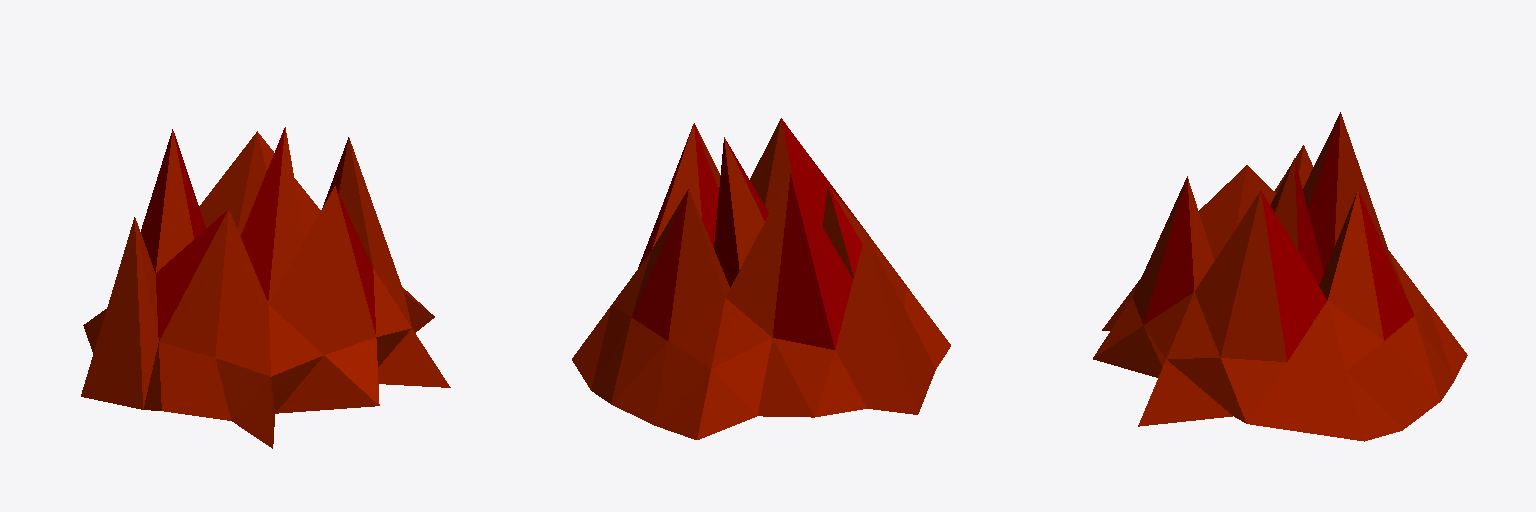
File: fire.obj
3 renders of one model, left to right at view 1: azimuth 30°, elevation 25°; view 2: azimuth 150°, elevation 25°; view 3: azimuth 270°, elevation 25°, orthographic.
Visible parts, largest first — view 1: Firestl.001; view 2: Firestl.001; view 3: Firestl.001.
Boxes of the visible parts, <box> form: Firestl.001: <box>81,127,450,448</box>; Firestl.001: <box>572,118,950,439</box>; Firestl.001: <box>1093,112,1467,441</box>.
Size of the model in its own units: 1.13 by 0.7859 by 1.13.